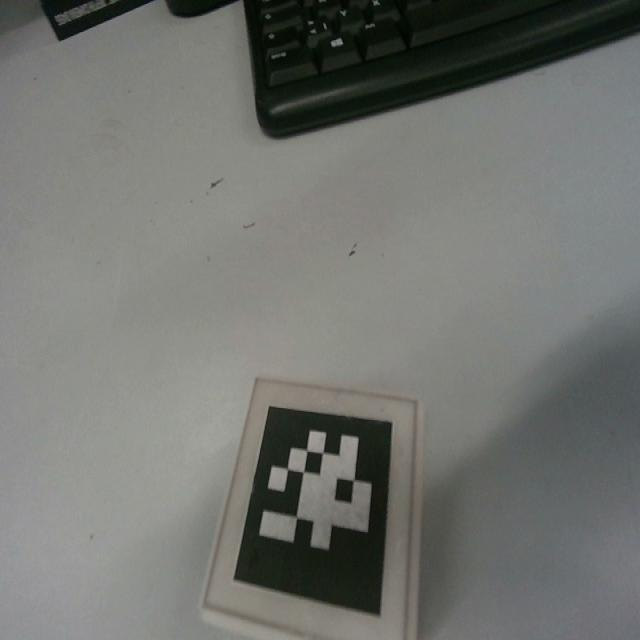Cube: (198, 374, 424, 638)
